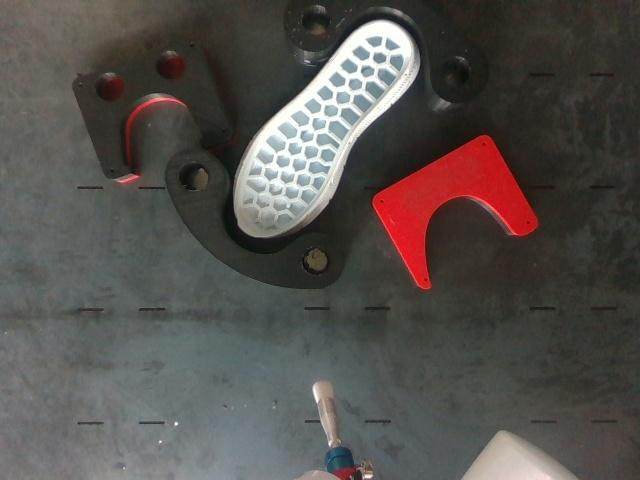shoes: (235, 23, 411, 237)
